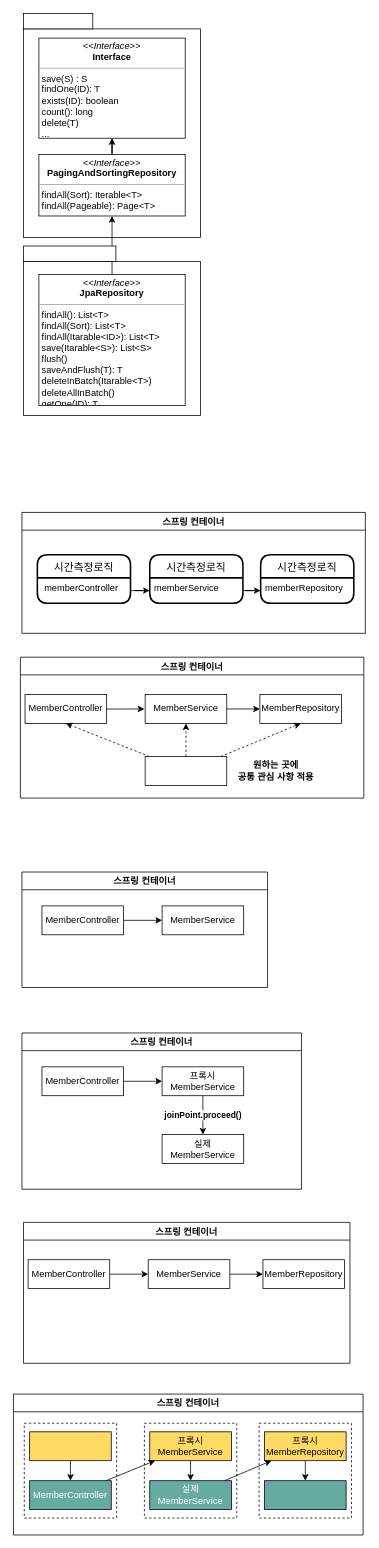
This 379x1548 diagram has some shape labels left out. Each missing label, with the centre of its shape:
"TimeTraceApp" belongs at pixel 185 770.
"스프링 데이터" belongs at pixel 58 21.
"스프링 데이터 JPA" belongs at pixel 69 253.
"실제 MemberRepository" belongs at pixel 305 1495.
"프록시 MemberController" belongs at pixel 70 1446.
